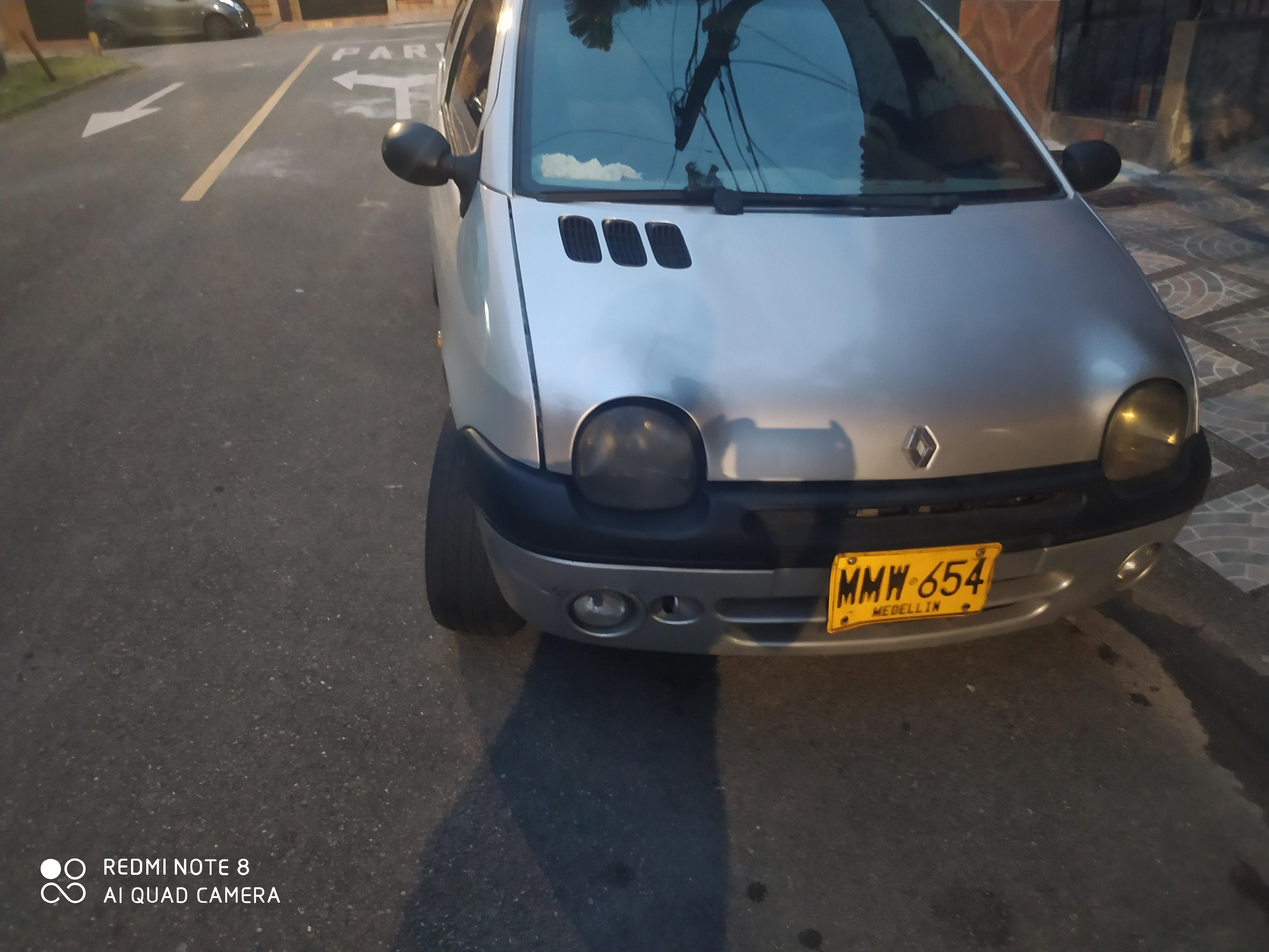placa: (812, 531, 1005, 643)
